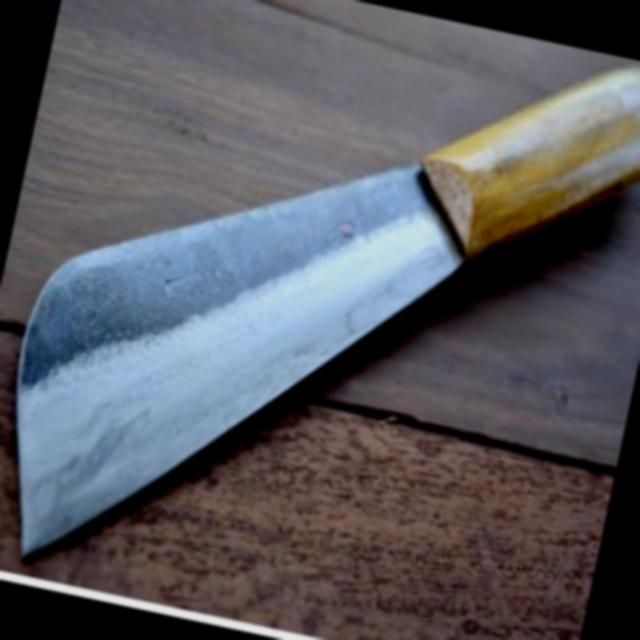knife: (1, 60, 640, 574)
